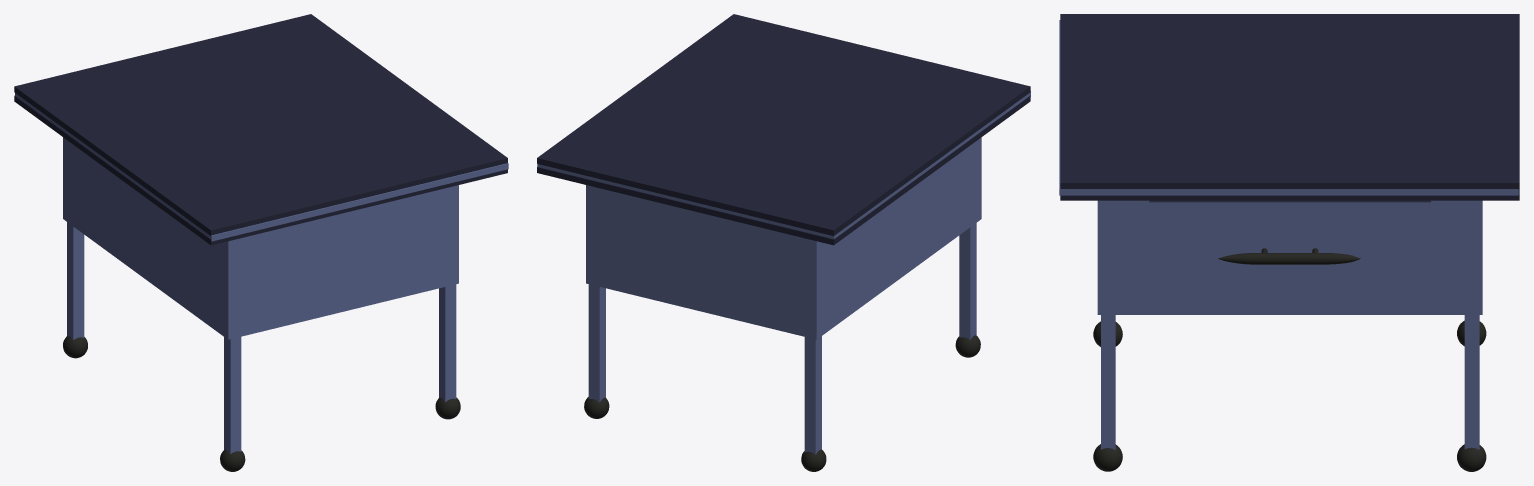
The model's file is table.obj.
3 views of the same model, side by side, from view 1: azimuth 30°, elevation 25°; view 2: azimuth 150°, elevation 25°; view 3: azimuth 270°, elevation 25° (orthographic). The views are drawn at different scales.
Visible parts, largest first — view 1: pasted__pasted__pCube4; view 2: pasted__pasted__pCube4; view 3: pasted__pasted__pCube4.
Part boxes in pixels (box(x1,y1,x2,y2)): pasted__pasted__pCube4: box(14, 14, 508, 471); pasted__pasted__pCube4: box(537, 14, 1030, 471); pasted__pasted__pCube4: box(1059, 14, 1519, 471).
Size of the model in its own units: 2.43 by 2.08 by 2.8.
